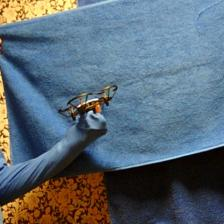drone: (58, 84, 119, 120)
